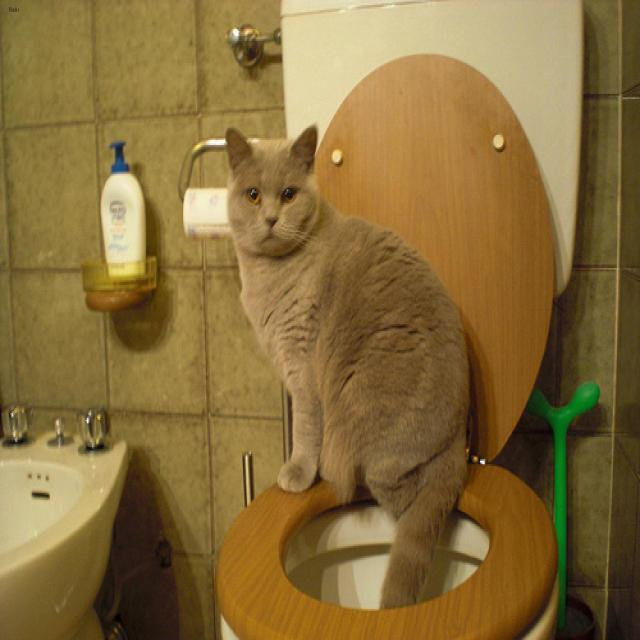British_Shorthair: (225, 123, 316, 247)
